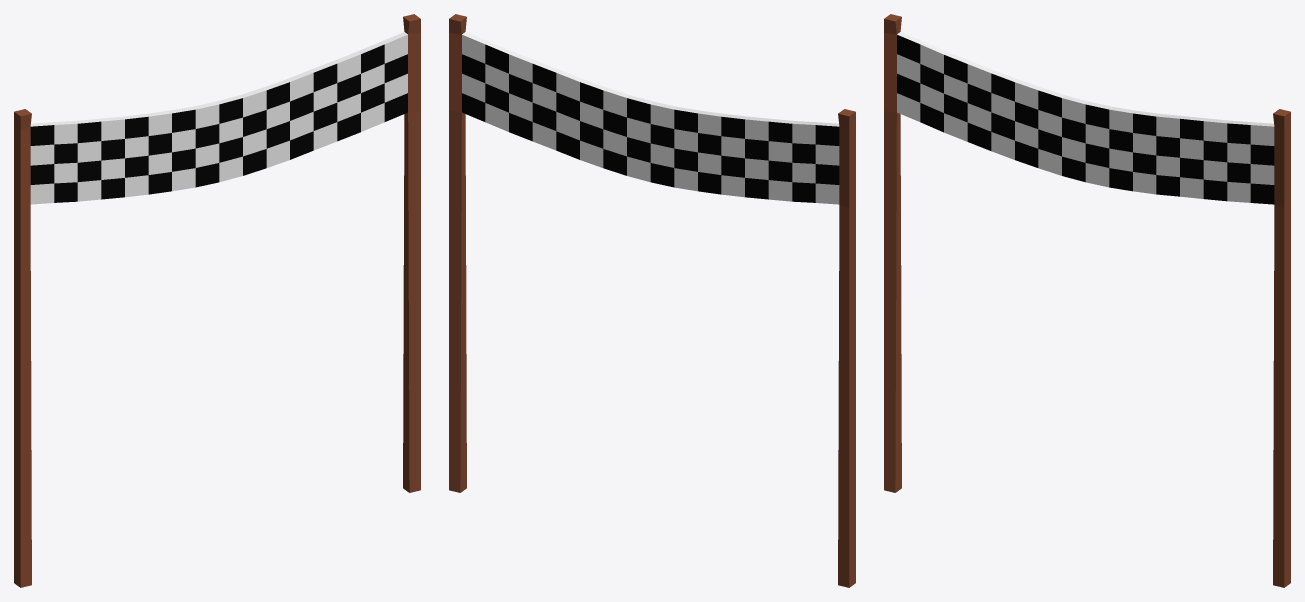
The model's file is endFlag.fbx.
3 views of the same model, side by side, from view 1: azimuth 30°, elevation 25°; view 2: azimuth 150°, elevation 25°; view 3: azimuth 330°, elevation 25° (orthographic).
Visible parts, largest first — view 1: endPole; view 2: endPole; view 3: endPole.
Part boxes in pixels (left/top/right/bottom): endPole: left=14, top=14, right=420, bottom=587; endPole: left=449, top=14, right=855, bottom=587; endPole: left=884, top=14, right=1290, bottom=587.
Size of the model in its own units: 92.2 by 104 by 2.61.
